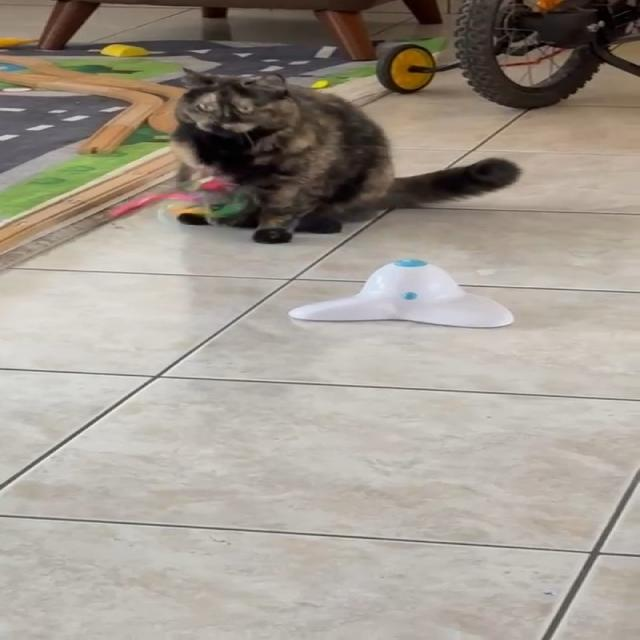authorized: (168, 66, 521, 244)
